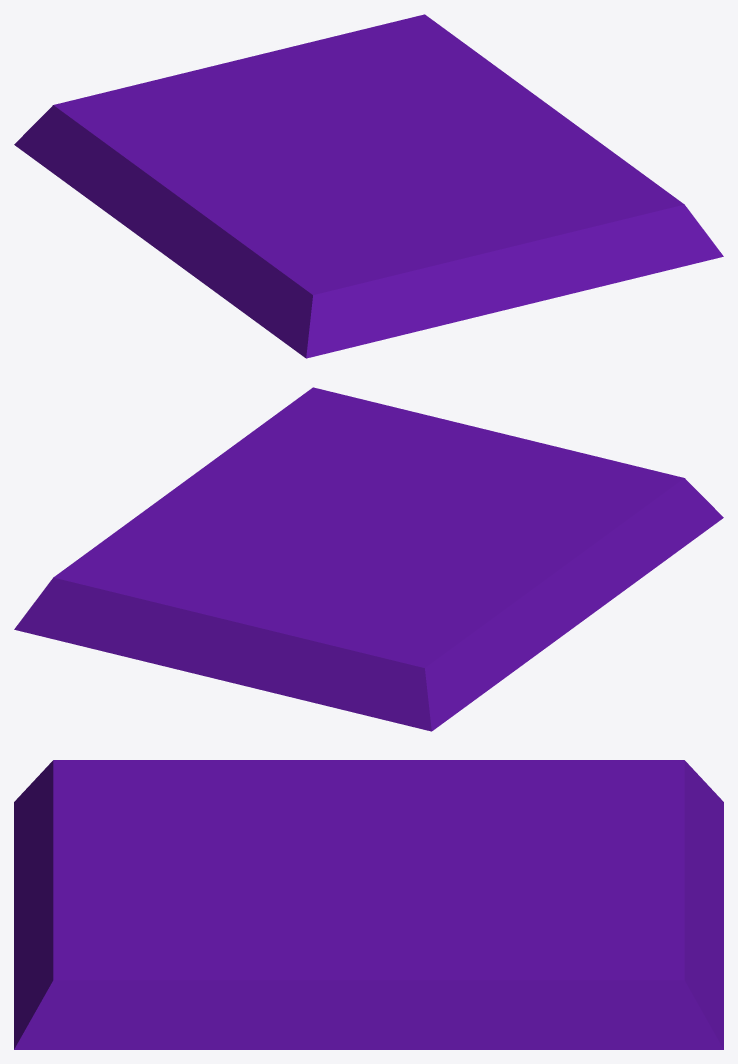
The model's file is SeatPouch_63.fbx.
The picture shows the model from 3 angles, top to bottom: view 1: azimuth 30°, elevation 25°; view 2: azimuth 150°, elevation 25°; view 3: azimuth 270°, elevation 25°; orthographic projection. The views are drawn at different scales.
Visible parts, largest first — view 1: SeatPouch_63; view 2: SeatPouch_63; view 3: SeatPouch_63.
Part boxes in pixels (left/top/right/bottom): SeatPouch_63: left=14, top=14, right=723, bottom=358; SeatPouch_63: left=14, top=387, right=723, bottom=731; SeatPouch_63: left=14, top=760, right=723, bottom=1049.
Size of the model in its own units: 243 by 25.53 by 294.
